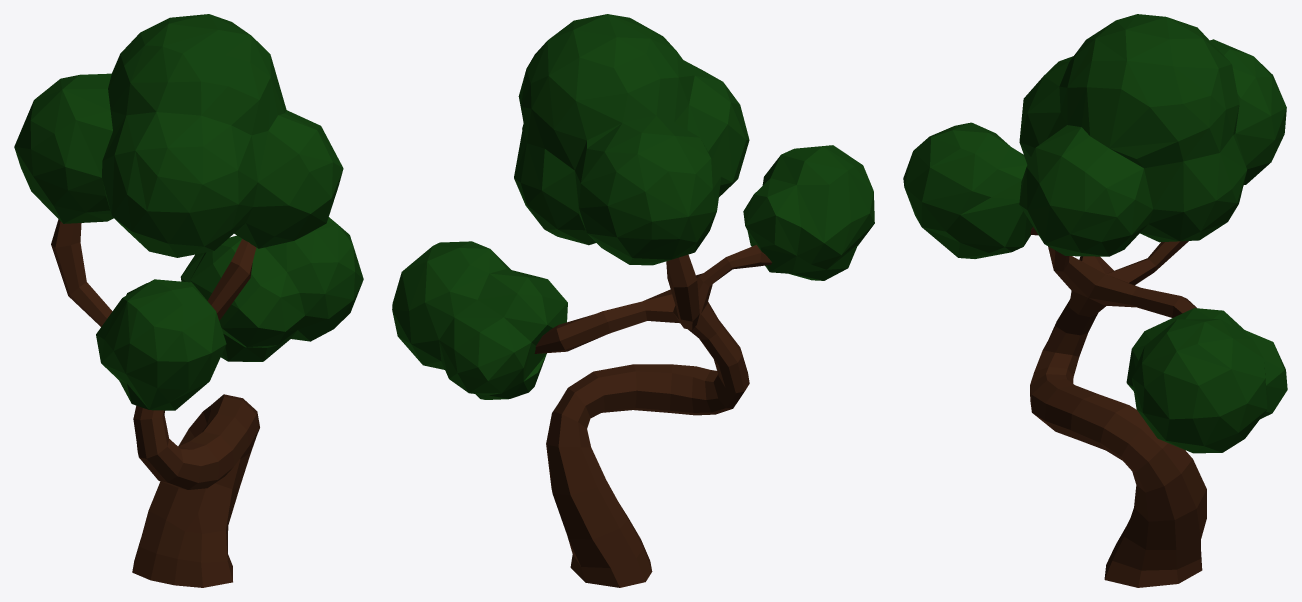
The model's file is Tree6.FBX.
3 renders of one model, left to right at view 1: azimuth 30°, elevation 25°; view 2: azimuth 150°, elevation 25°; view 3: azimuth 270°, elevation 25°, orthographic. The views are drawn at different scales.
Visible parts, largest first — view 1: LowPoly_Tree_06_lowpoly_tree_02_Mesh_005; view 2: LowPoly_Tree_06_lowpoly_tree_02_Mesh_005; view 3: LowPoly_Tree_06_lowpoly_tree_02_Mesh_005.
Boxes of the visible parts, x1,y1,x2,y2 form: LowPoly_Tree_06_lowpoly_tree_02_Mesh_005: [14, 14, 363, 587]; LowPoly_Tree_06_lowpoly_tree_02_Mesh_005: [392, 14, 874, 587]; LowPoly_Tree_06_lowpoly_tree_02_Mesh_005: [903, 14, 1287, 587].
Bounding box in the file's own units: 2.55 × 3.72 × 2.36.
